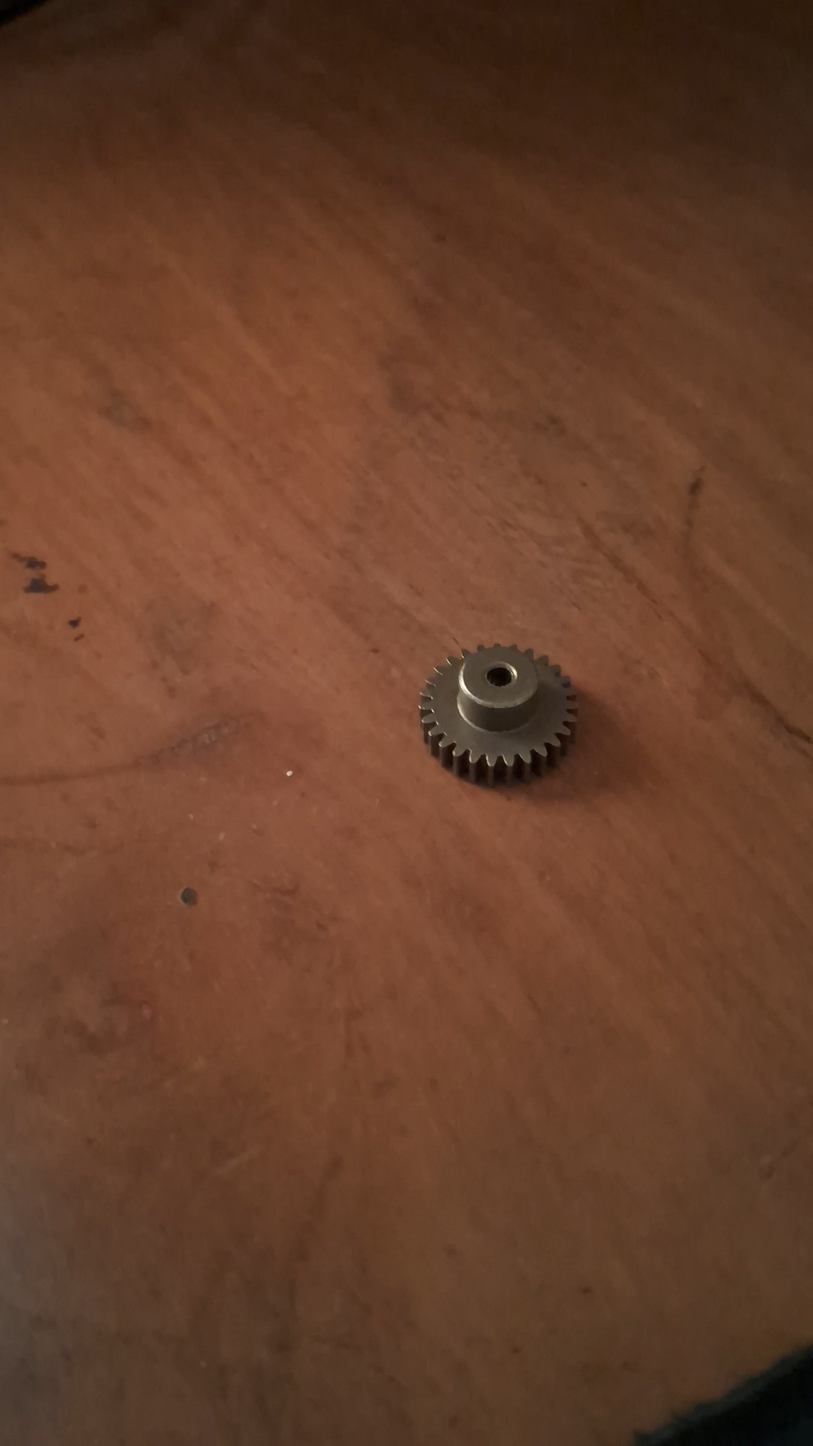spur gear: (420, 645, 576, 784)
